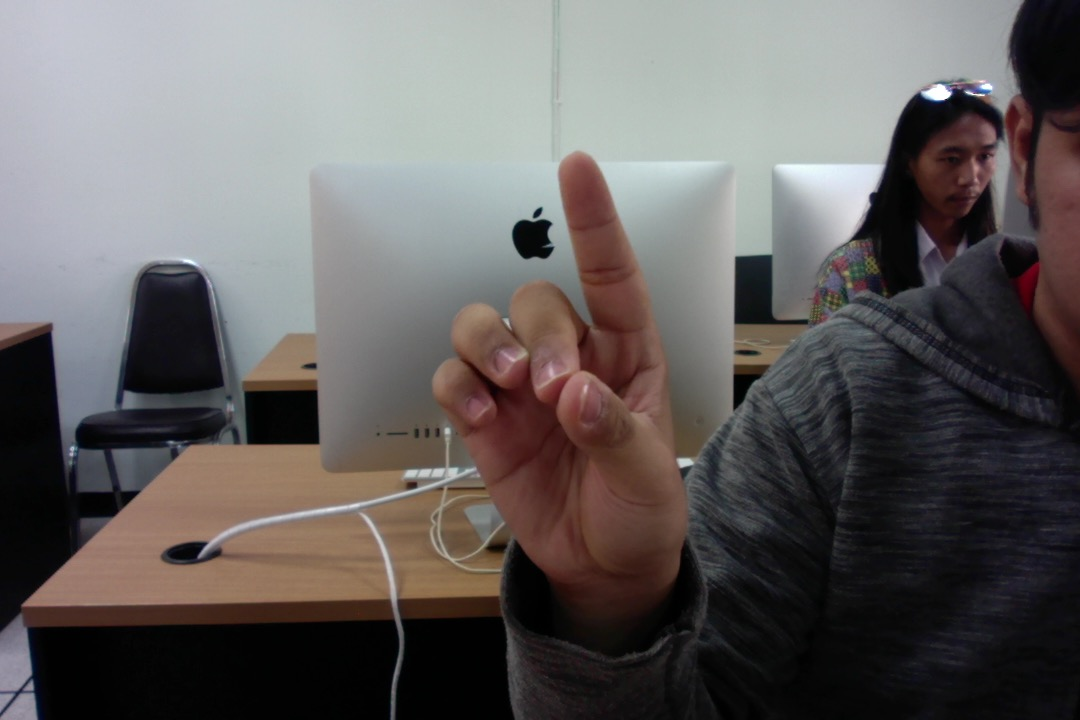dor: (424, 139, 703, 603)
